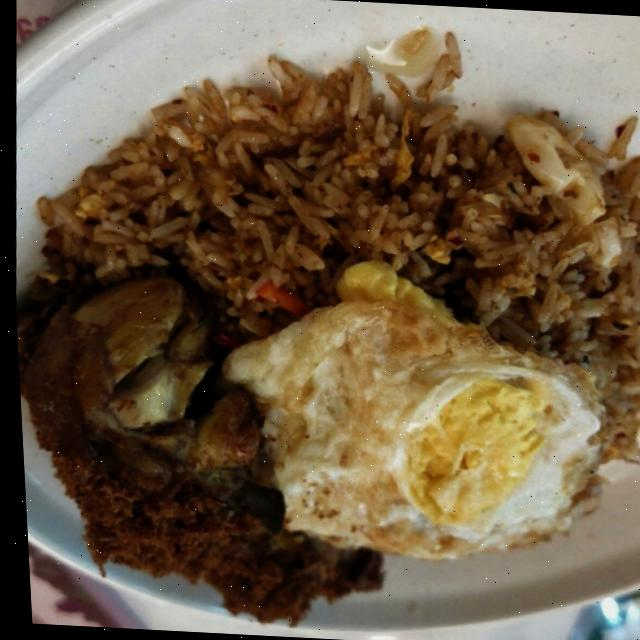米饭主食: (13, 28, 640, 633)
